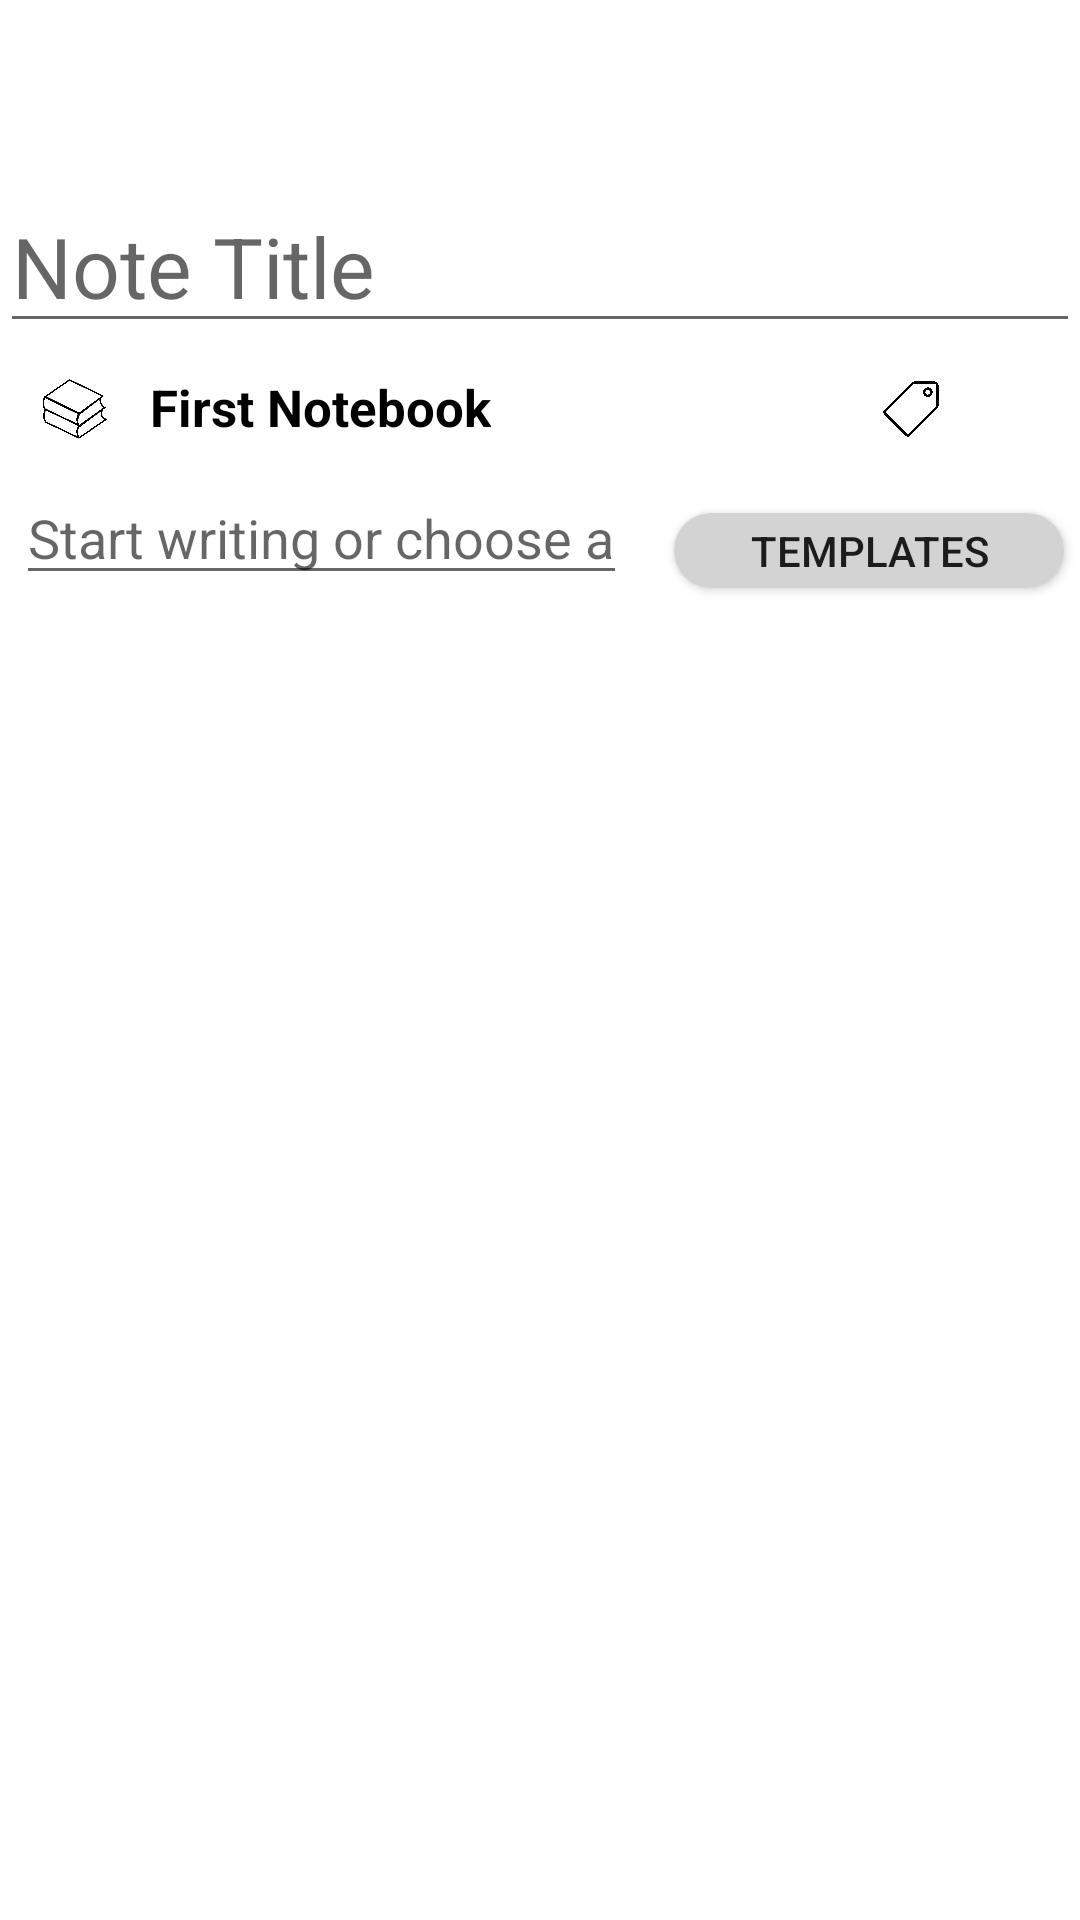

Icon bounding boxes for this 1080*1920 phone screenshot, format (x1, y1, x2, y2):
blacktag: (883, 381, 939, 437)
whitebook: (43, 379, 107, 439)
